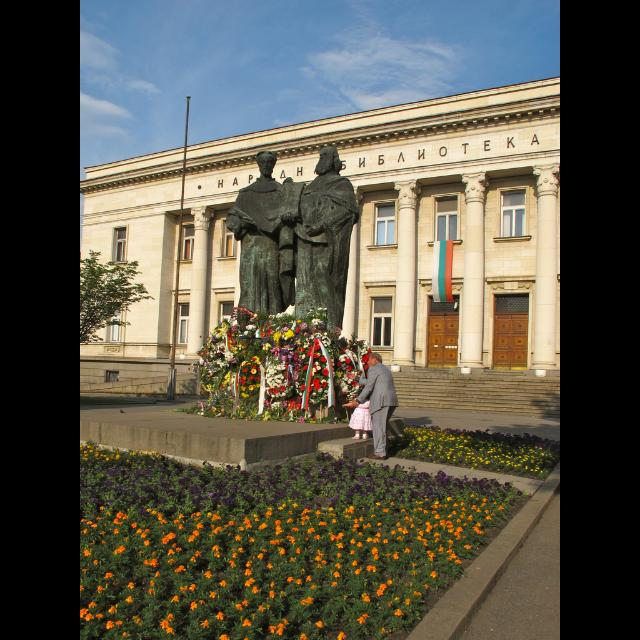Flower: (199, 306, 375, 420), (313, 378, 319, 392), (218, 580, 226, 586)
